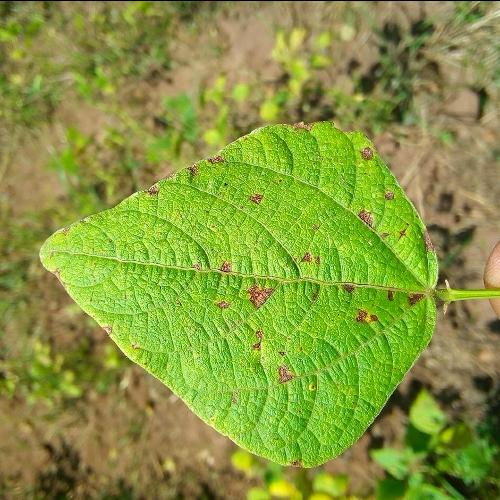hawar: (42, 110, 449, 468)
